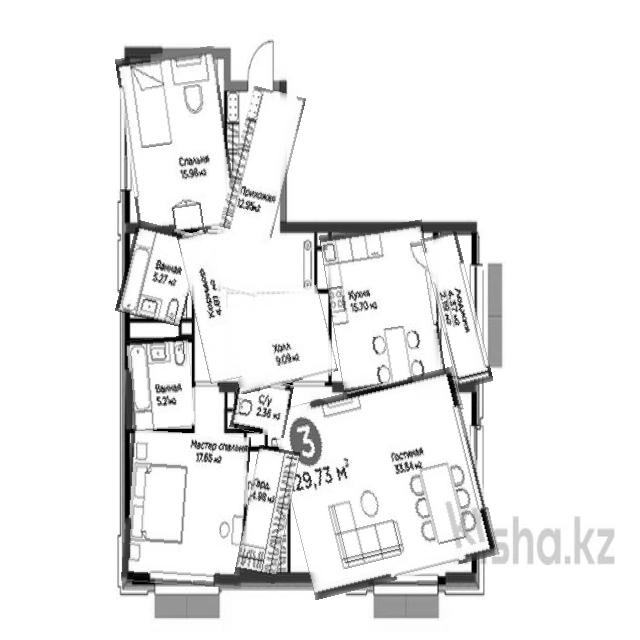balcony: (429, 231, 484, 388)
bathroom: (120, 223, 198, 324), (127, 337, 194, 430), (232, 378, 292, 436), (289, 374, 290, 384)
hallway: (216, 87, 294, 297), (225, 290, 333, 389), (186, 230, 234, 383)
kitchen: (325, 223, 441, 392)
living_room: (279, 376, 490, 590), (121, 48, 233, 235), (124, 432, 248, 588)
other: (240, 447, 294, 583)
